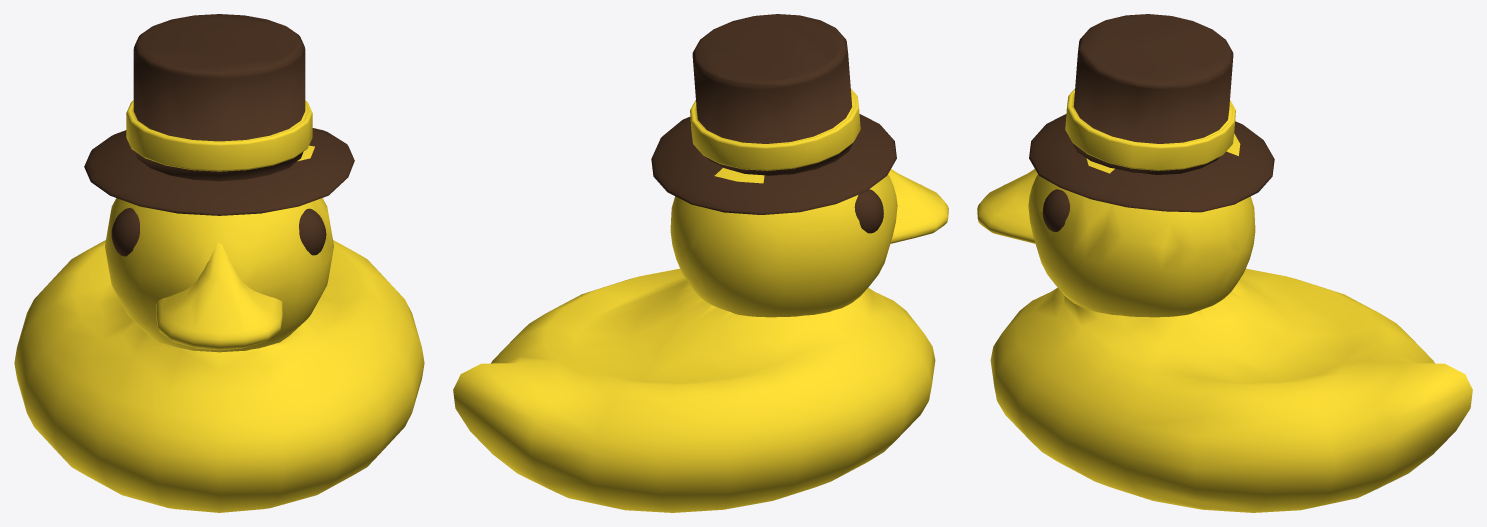
The model's file is Toy60.fbx.
3 views of the same model, side by side, from view 1: azimuth 30°, elevation 25°; view 2: azimuth 150°, elevation 25°; view 3: azimuth 270°, elevation 25° (orthographic). The views are drawn at different scales.
Visible parts, largest first — view 1: Toy60; view 2: Toy60; view 3: Toy60.
Part boxes in pixels (box(x1,y1,x2,y2)): Toy60: box(14, 14, 424, 512); Toy60: box(453, 14, 948, 512); Toy60: box(977, 14, 1472, 512).
Size of the model in its own units: 0.1479 by 0.1689 by 0.1809.
